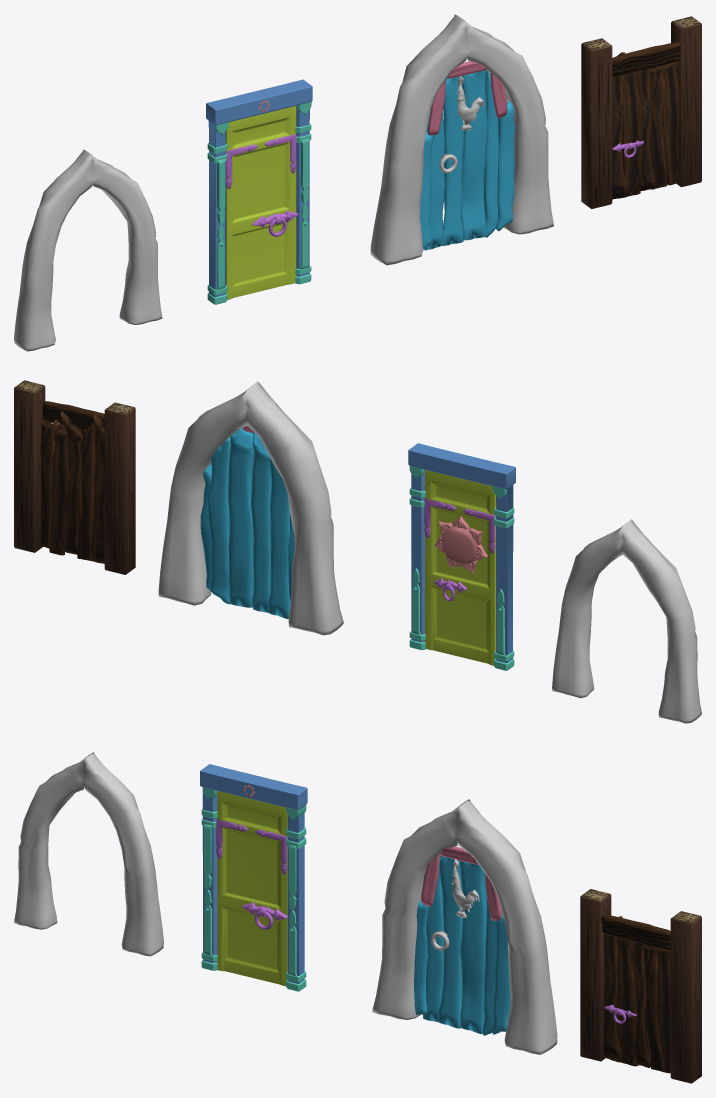
The model's file is Doors.fbx.
3 renders of one model, top to bottom at view 1: azimuth 30°, elevation 25°; view 2: azimuth 150°, elevation 25°; view 3: azimuth 330°, elevation 25°, orthographic.
Parts seen in each view (by area): view 1: Sqaure_Door, Wood_0.007, Wood_2.004, Door.002, DoorFrame, Chwarchewa.001; view 2: Sqaure_Door, Wood_0.007, Wood_2.004, Door.002, DoorFrame, Chwarchewa.001; view 3: Sqaure_Door, Wood_0.007, Wood_2.004, Door.002, DoorFrame, Chwarchewa.001.
Boxes of the visible parts, box(x1,y1,x2,y2) form: Sqaure_Door: box(581, 16, 701, 208); Wood_0.007: box(370, 14, 553, 265); Wood_2.004: box(420, 61, 514, 250); Door.002: box(226, 106, 297, 299); DoorFrame: box(14, 149, 162, 351); Chwarchewa.001: box(206, 79, 312, 304); Sqaure_Door: box(14, 380, 135, 574); Wood_0.007: box(158, 381, 343, 635); Wood_2.004: box(200, 426, 294, 618); Door.002: box(424, 470, 495, 665); DoorFrame: box(552, 519, 701, 723); Chwarchewa.001: box(408, 443, 515, 670); Sqaure_Door: box(580, 889, 701, 1083); Wood_0.007: box(372, 799, 557, 1054); Wood_2.004: box(413, 846, 510, 1035); Door.002: box(216, 791, 287, 986); DoorFrame: box(14, 752, 163, 956); Chwarchewa.001: box(200, 764, 307, 991).
Bounding box in the file's own units: 926 × 294 × 46.01.
